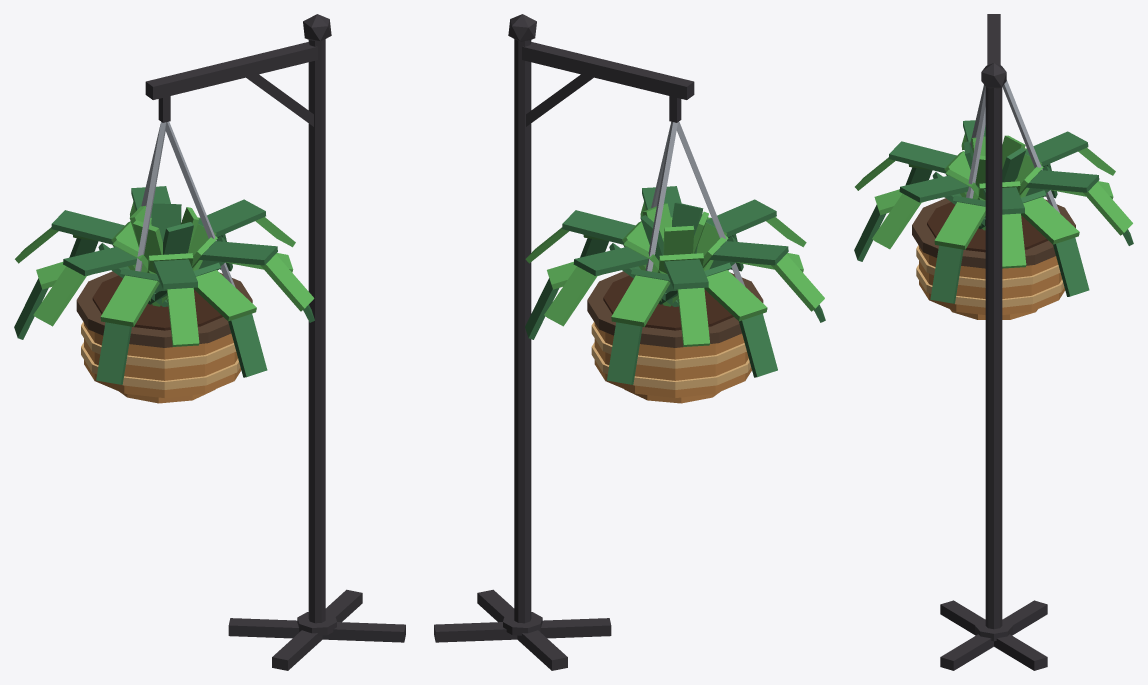
Rendered from CatCafe_Decor_HangingFernBasket.glb.
3 views of the same model, side by side, from view 1: azimuth 30°, elevation 25°; view 2: azimuth 150°, elevation 25°; view 3: azimuth 270°, elevation 25° (orthographic). The views are drawn at different scales.
Parts seen in each view (by area): view 1: CatCafe_Decor_HangingFernBasket; view 2: CatCafe_Decor_HangingFernBasket; view 3: CatCafe_Decor_HangingFernBasket.
Part boxes in pixels (box(x1,y1,x2,y2)): CatCafe_Decor_HangingFernBasket: box(14, 14, 405, 670); CatCafe_Decor_HangingFernBasket: box(434, 14, 825, 670); CatCafe_Decor_HangingFernBasket: box(854, 14, 1133, 670).
Size of the model in its own units: 2.79 by 4.67 by 2.05.
Materials: 1 (1 with a texture image).
